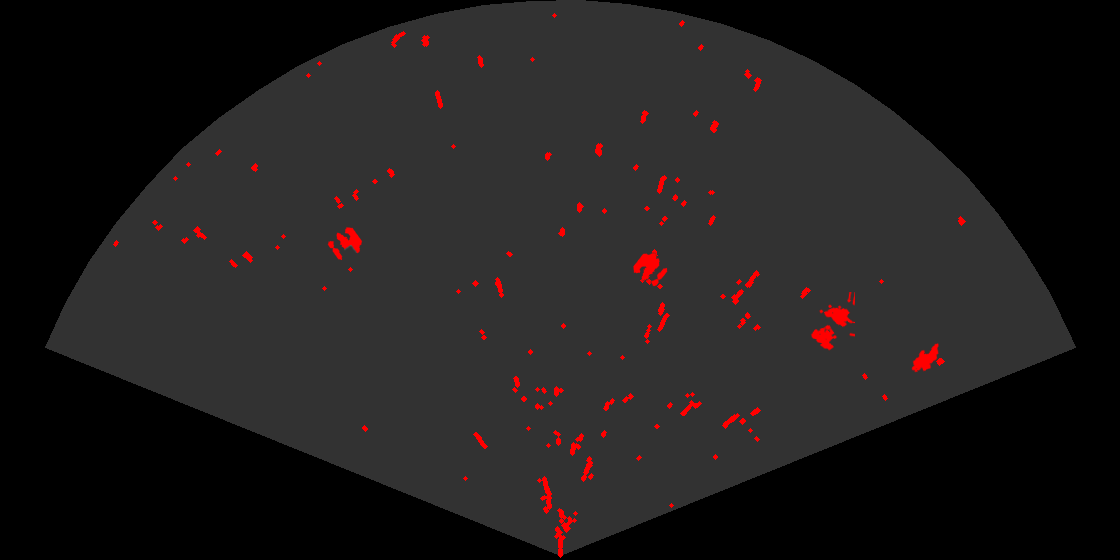AUV: (910, 341, 940, 374)
ball: (326, 226, 364, 262), (632, 252, 669, 288)
cage: (809, 292, 855, 352)
